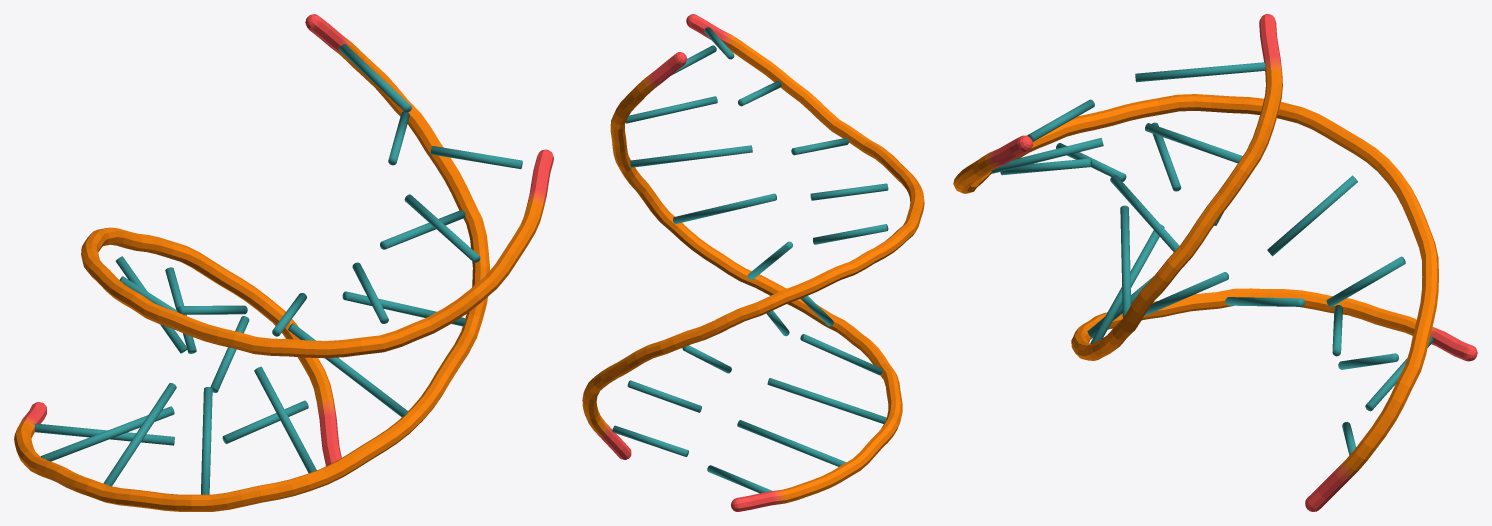
Rendered from 6GPI dsDNA.obj.
3 renders of one model, left to right at view 1: azimuth 30°, elevation 25°; view 2: azimuth 150°, elevation 25°; view 3: azimuth 270°, elevation 25°, orthographic. The views are drawn at different scales.
Bounding box in the file's own units: 24.58 × 30.41 × 30.4.
